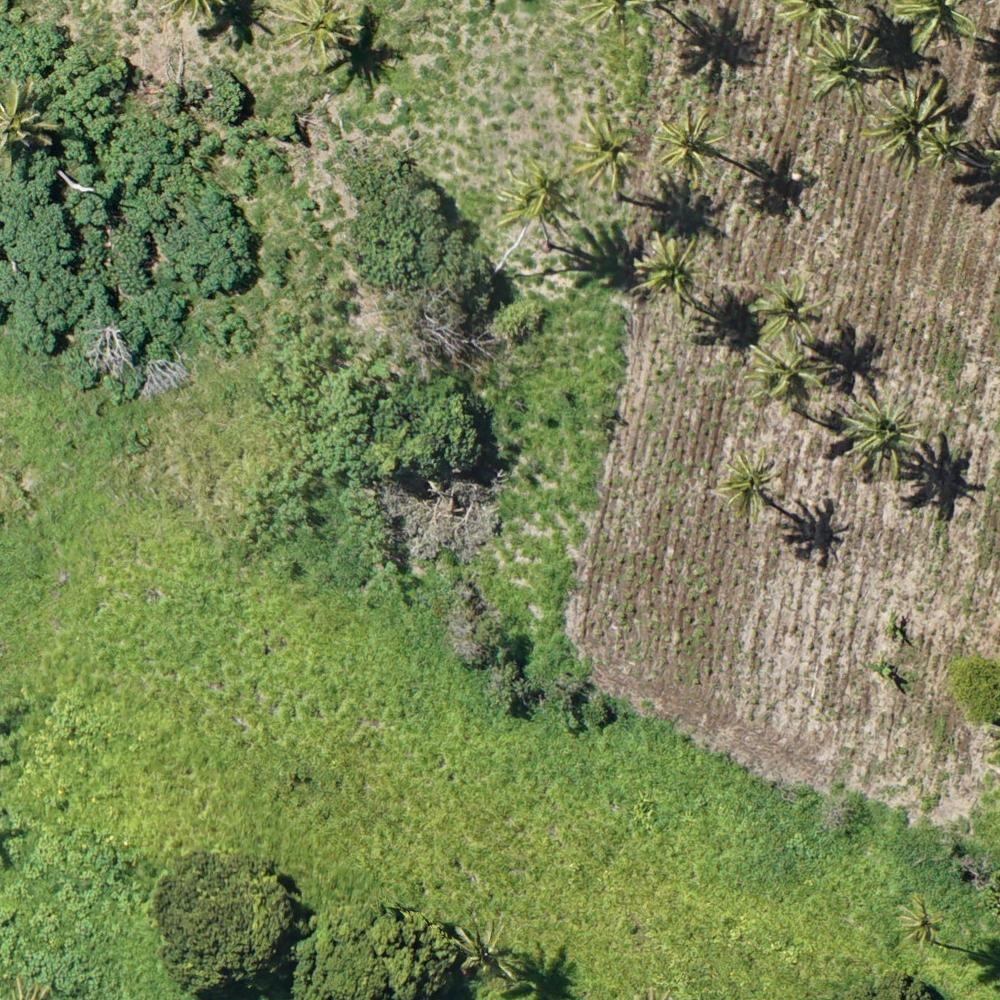Palm: (873, 75, 957, 173), (800, 22, 886, 105), (631, 233, 712, 315), (839, 395, 923, 474), (269, 1, 369, 64), (572, 113, 642, 197), (746, 278, 832, 345), (653, 106, 728, 182), (743, 344, 819, 412), (501, 159, 573, 230), (451, 913, 517, 985), (893, 891, 949, 954), (717, 456, 776, 514), (915, 111, 971, 171)
